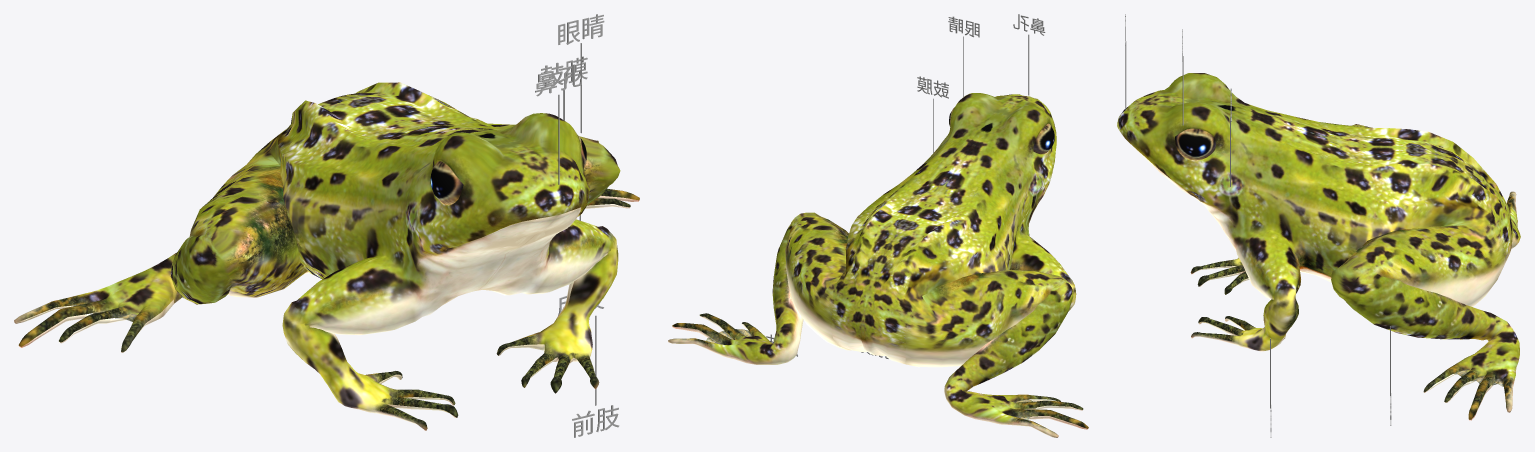
Rendered from qingwa.gltf.
The picture shows the model from 3 angles, left to right: view 1: azimuth 30°, elevation 25°; view 2: azimuth 150°, elevation 25°; view 3: azimuth 270°, elevation 25°; orthographic projection. The views are drawn at different scales.
Parts seen in each view (by area): view 1: body, eye, f2, f1; view 2: body, eye; view 3: body, eye.
Boxes of the visible parts, x1=… form: body: x1=14, y1=82, x2=639, y2=430; eye: x1=430, y1=135, x2=586, y2=205; f2: x1=558, y1=14, x2=604, y2=44; f1: x1=535, y1=64, x2=581, y2=96; body: x1=668, y1=93, x2=1088, y2=437; eye: x1=949, y1=107, x2=1054, y2=154; body: x1=1117, y1=73, x2=1520, y2=420; eye: x1=1175, y1=128, x2=1216, y2=160.
Size of the model in its own units: 98.29 by 72.03 by 71.97.
Materials: 2 (1 with a texture image).
